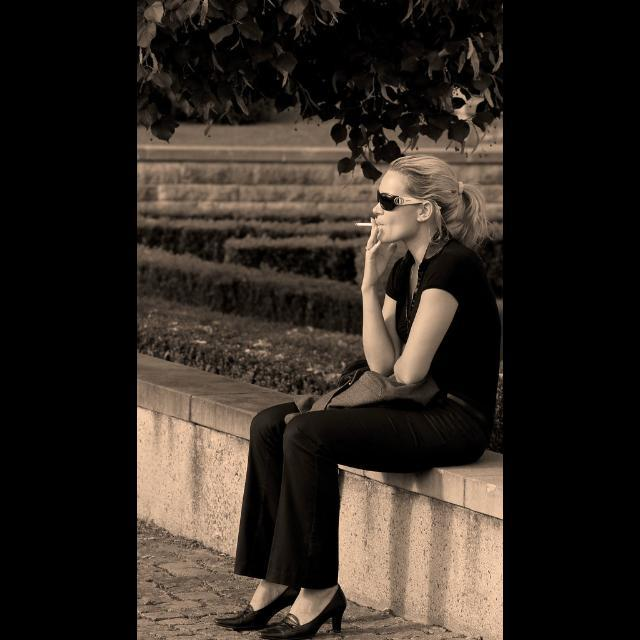rokok: (352, 218, 378, 234)
